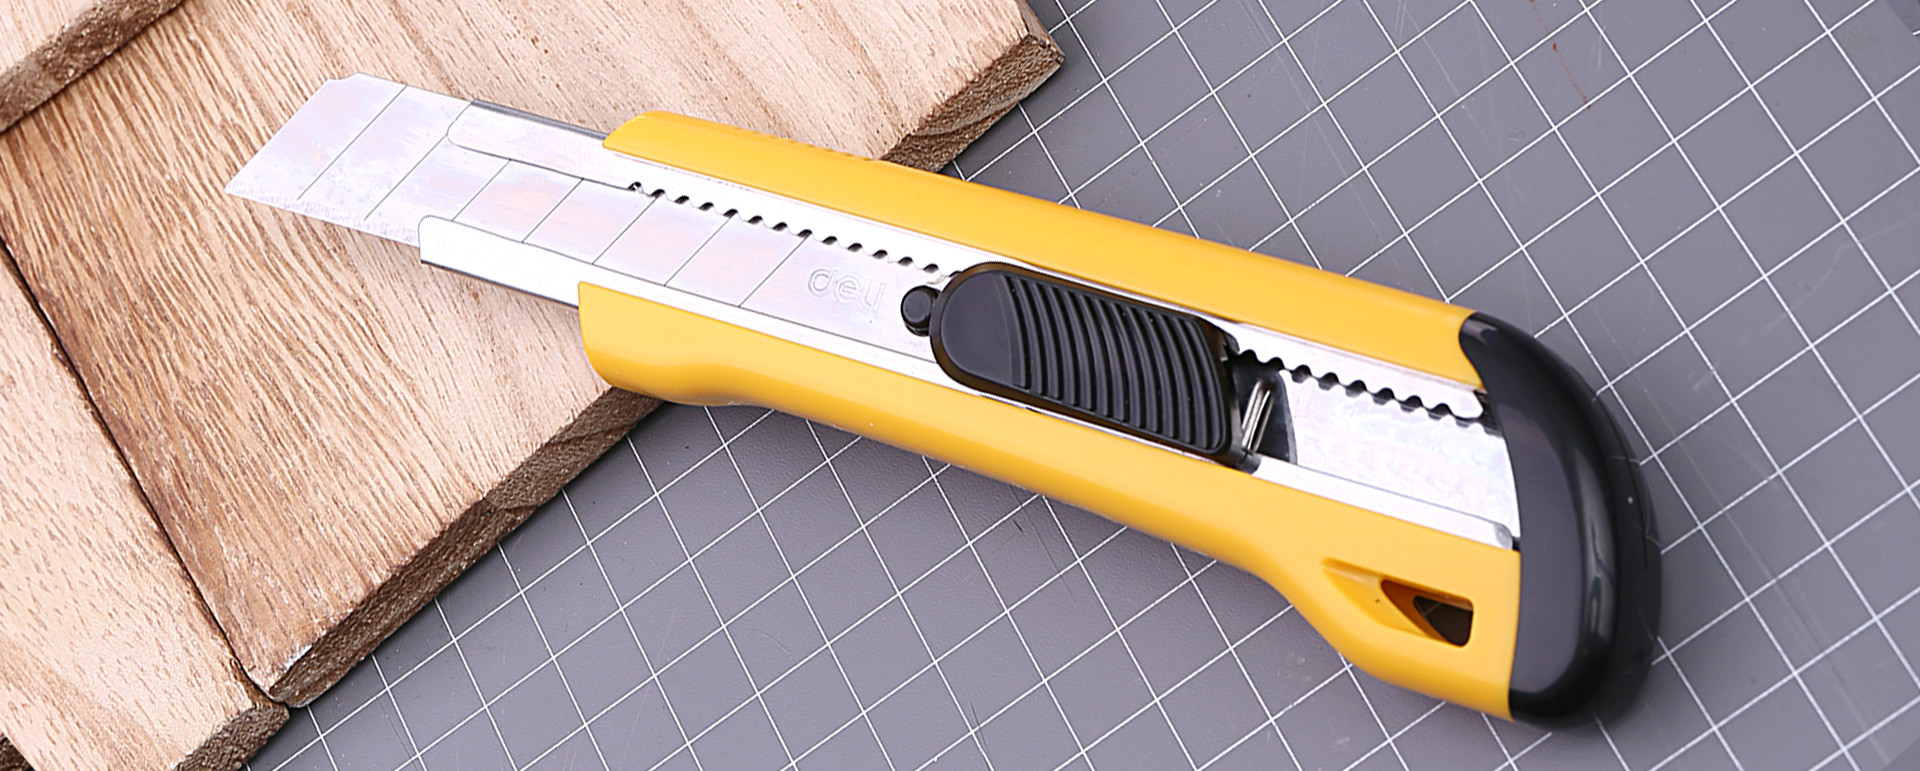cutter: (204, 72, 1668, 737)
